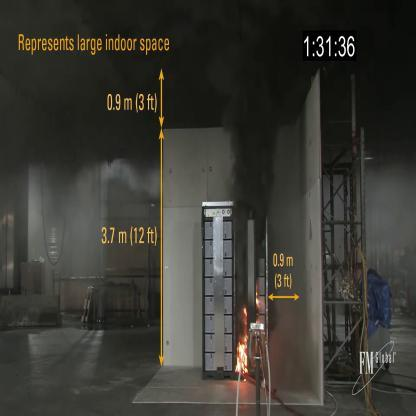fire: (232, 298, 252, 379), (254, 282, 268, 314)
smoke: (214, 32, 283, 195)
